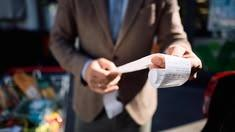receipt-in-hand: (148, 55, 190, 87), (117, 55, 151, 72)
